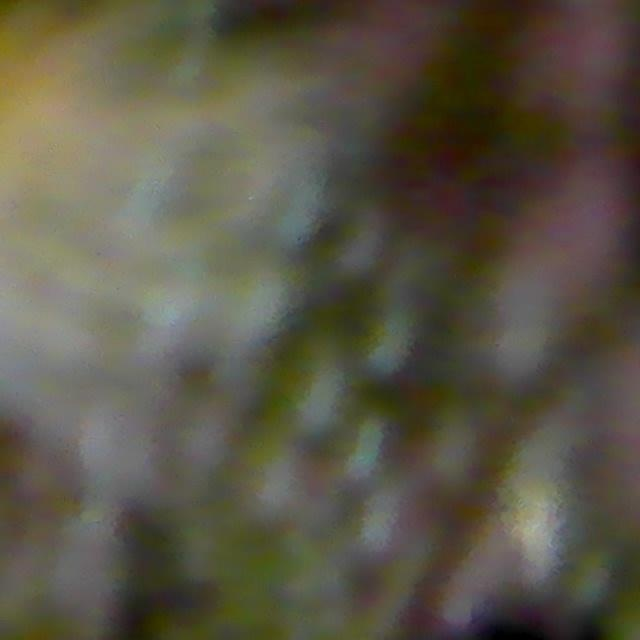SeaGrape: (504, 150, 626, 300), (498, 0, 616, 133)
